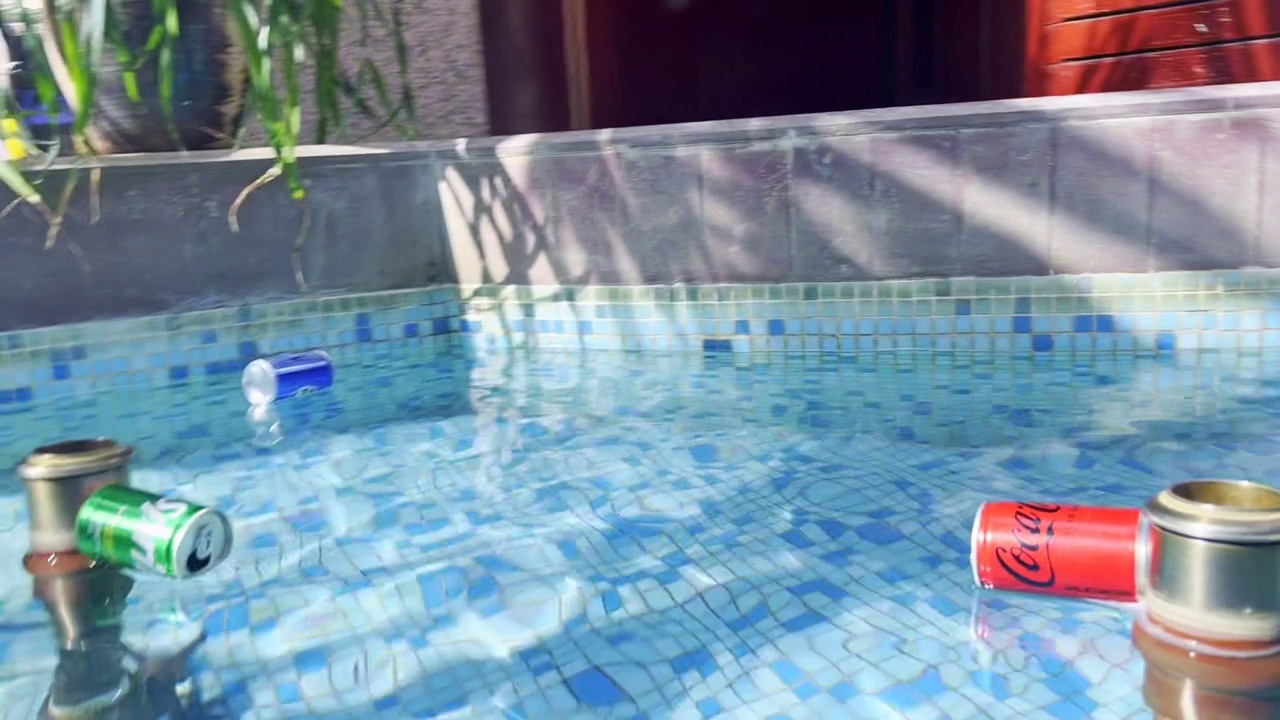debris: (967, 482, 1157, 609), (60, 477, 235, 588), (238, 328, 334, 415)
